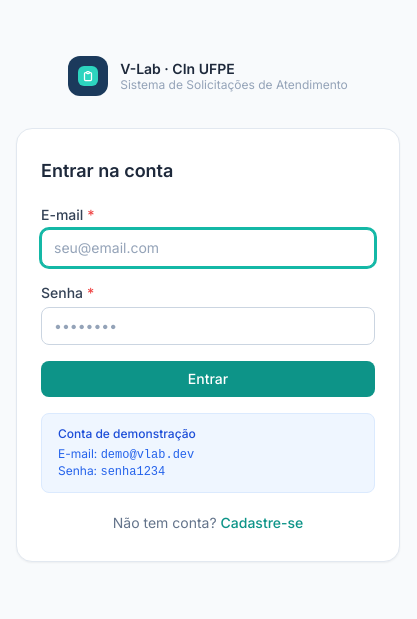
App — fluxo de autenticação › volta para login a partir do cadastro
The image size is (417, 619).
Click the button "Cadastre-se".
click(262, 523)  # box x1=220 y1=513 x2=303 y2=533
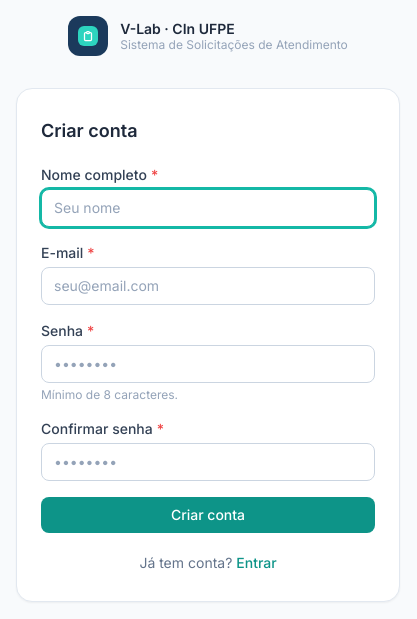
Click the button "Entrar".
click(256, 563)  # box x1=236 y1=553 x2=277 y2=573
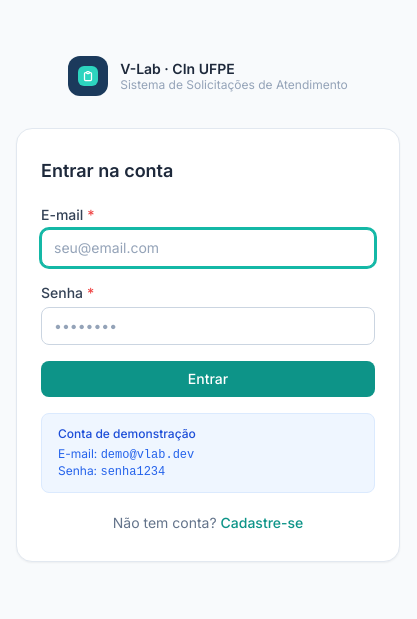
Check: the heading "Entrar na conta" is shown, box x1=41 y1=160 x2=173 y2=181
